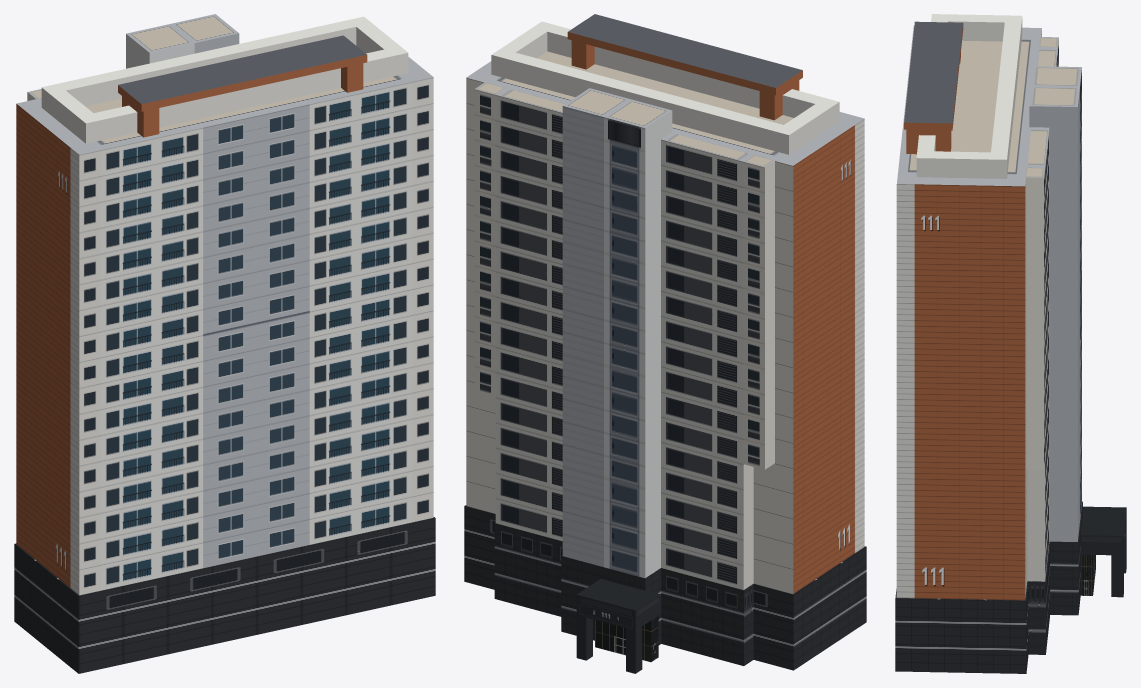
Rendered from 3D_place_111.glb.
The picture shows the model from 3 angles, left to right: view 1: azimuth 30°, elevation 25°; view 2: azimuth 150°, elevation 25°; view 3: azimuth 270°, elevation 25°; orthographic projection. The views are drawn at different scales.
Visible parts, largest first — view 1: KumhoParkHills_111; view 2: KumhoParkHills_111, Dong111_North_MainEntrance; view 3: KumhoParkHills_111, Dong111_North_MainEntrance.
Part boxes in pixels (x1,y1,x2,y2): KumhoParkHills_111: (14, 14, 435, 673); KumhoParkHills_111: (464, 14, 866, 670); Dong111_North_MainEntrance: (576, 579, 660, 673); KumhoParkHills_111: (895, 14, 1082, 673); Dong111_North_MainEntrance: (1080, 506, 1126, 597).
Bounding box in the file's own units: 36.37 × 54.43 × 21.93.
Materials: 35 (16 with a texture image).
